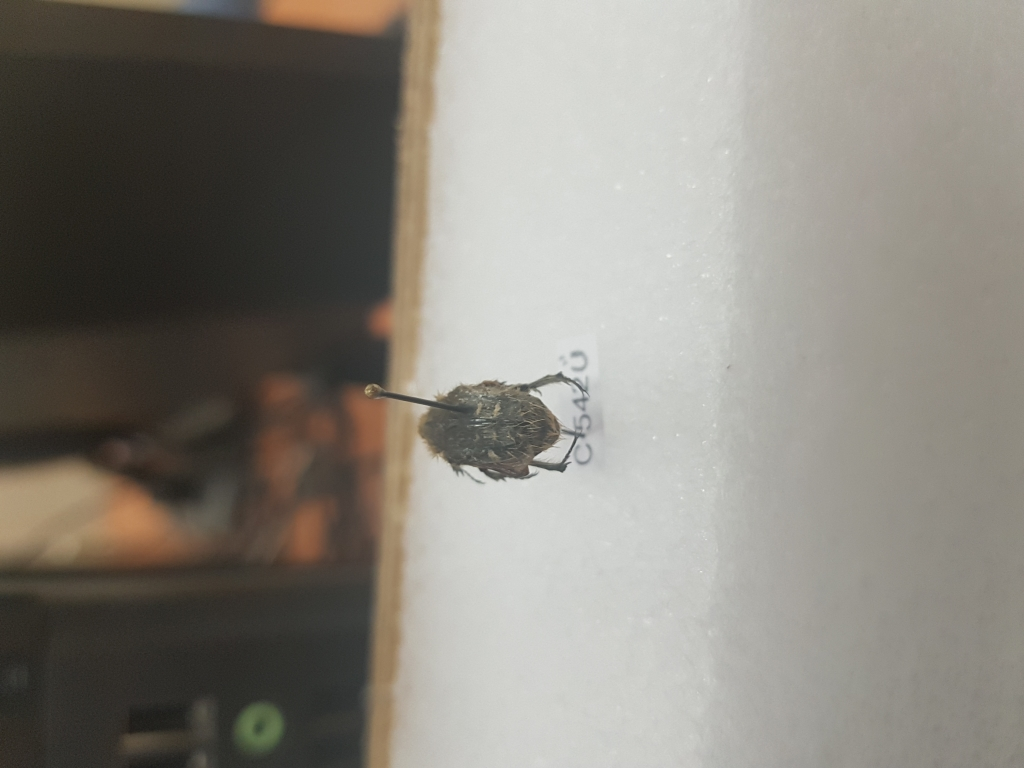Tropinota_hirta: (413, 359, 605, 487)
